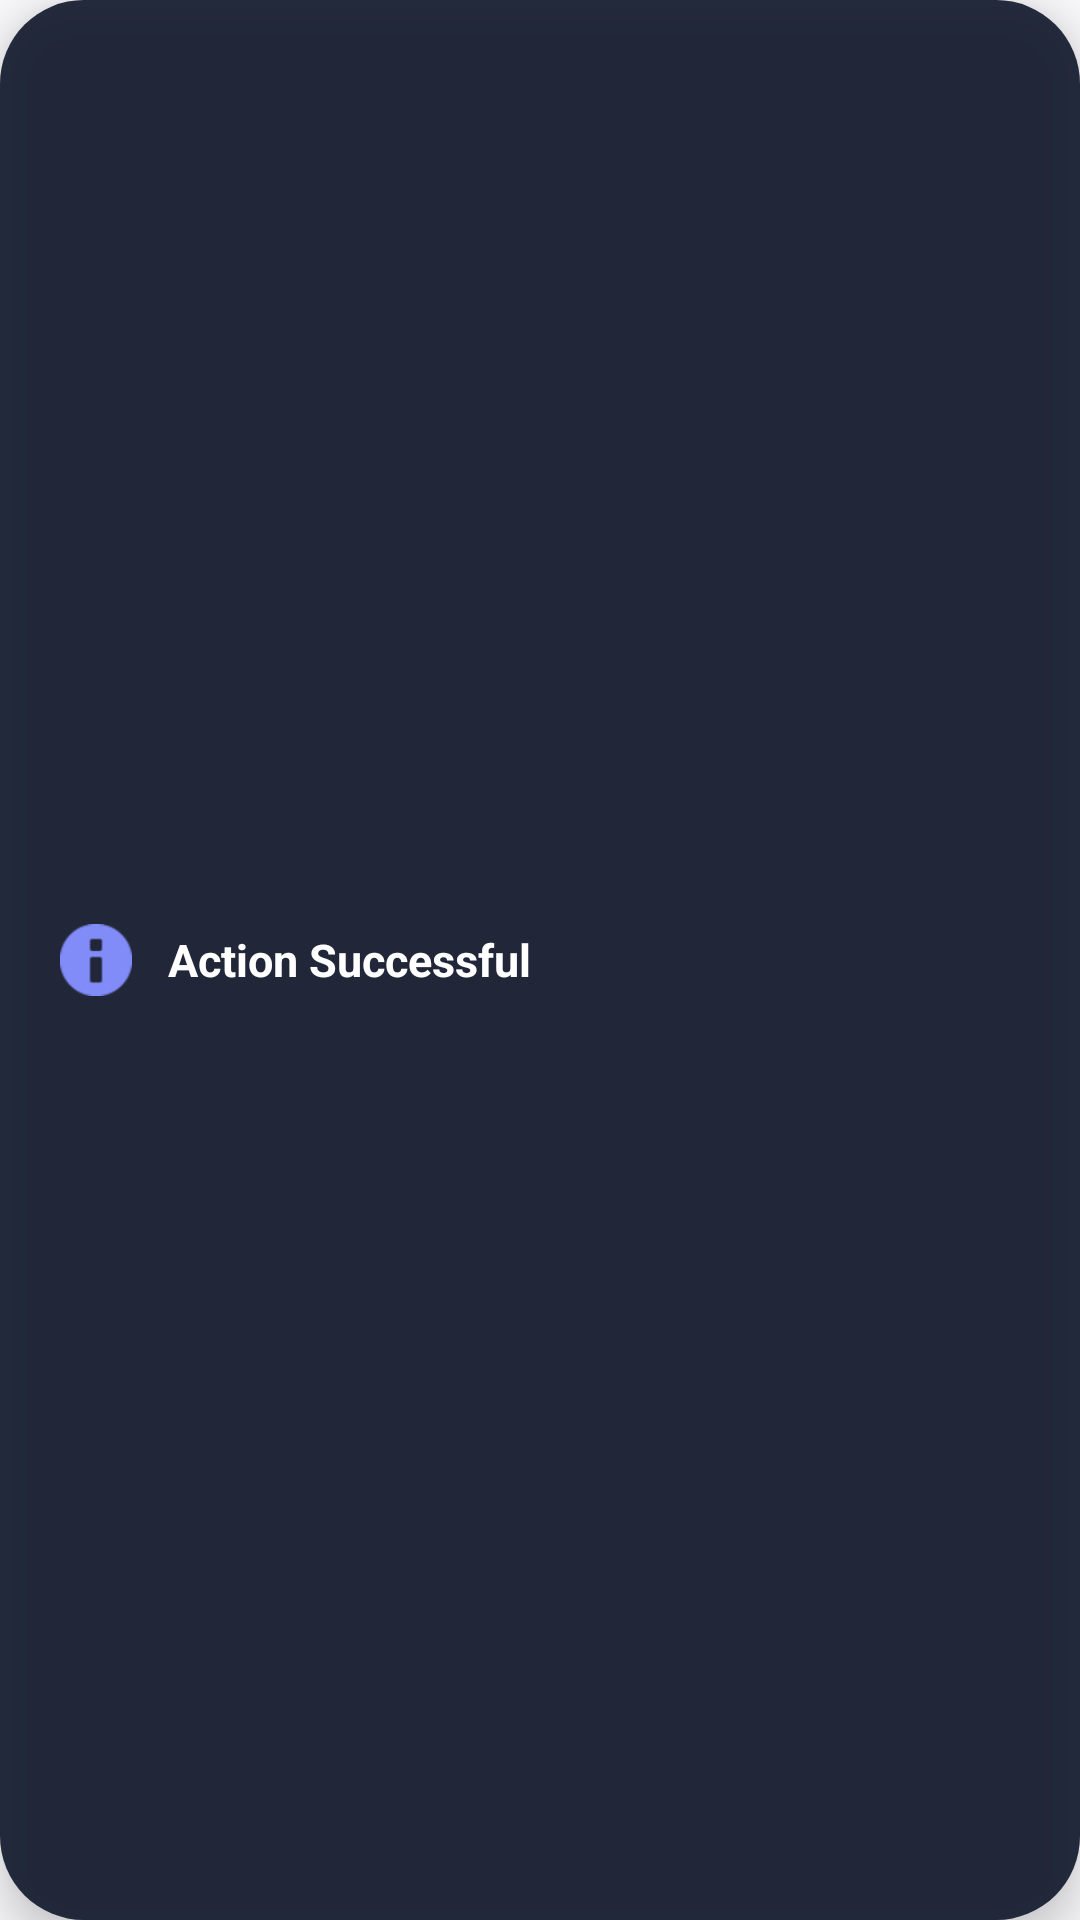

Where to tap for icons on this 1080px×1920px app screen, as (x=x, y=y):
info: (x=96, y=960)
